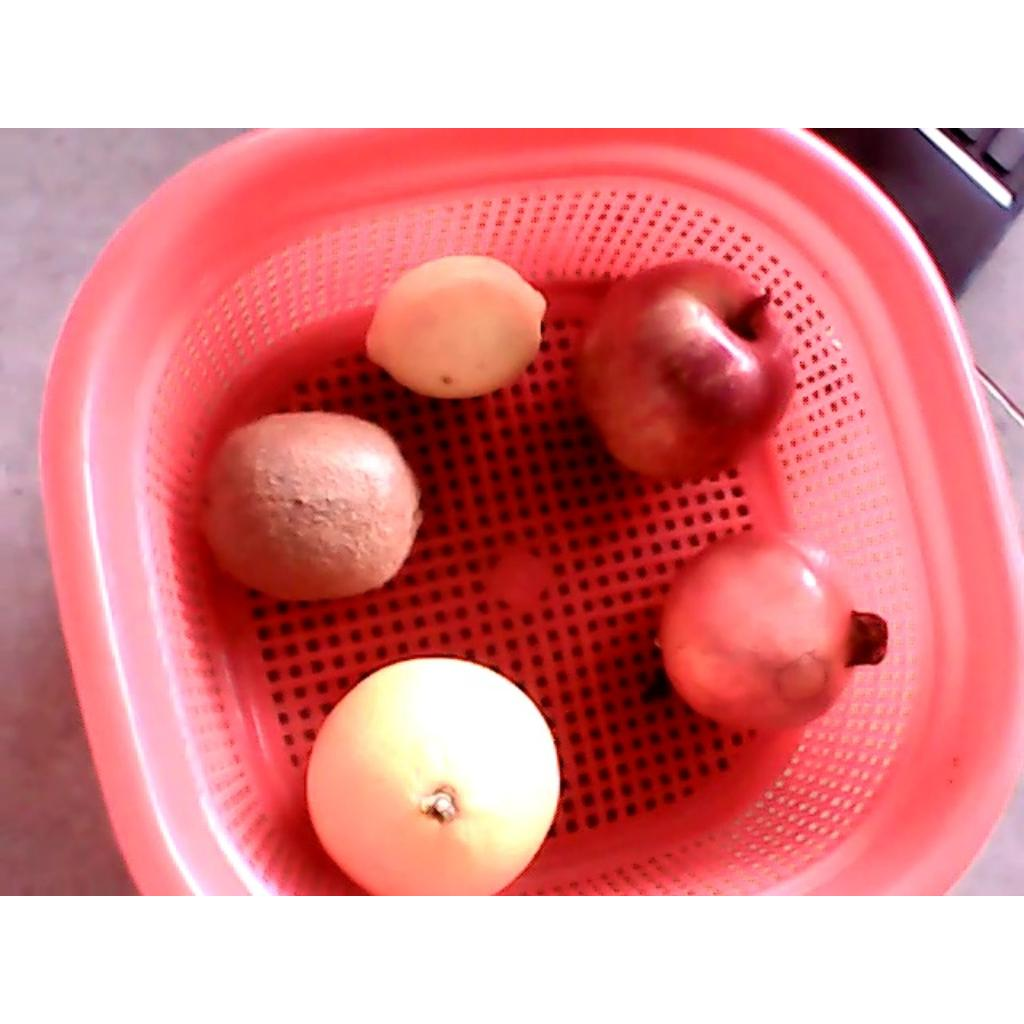apple: (580, 258, 799, 483)
kiwi: (196, 412, 423, 603)
lemon: (365, 254, 550, 399)
orange: (305, 659, 560, 894)
pomegranate: (660, 527, 889, 736)
